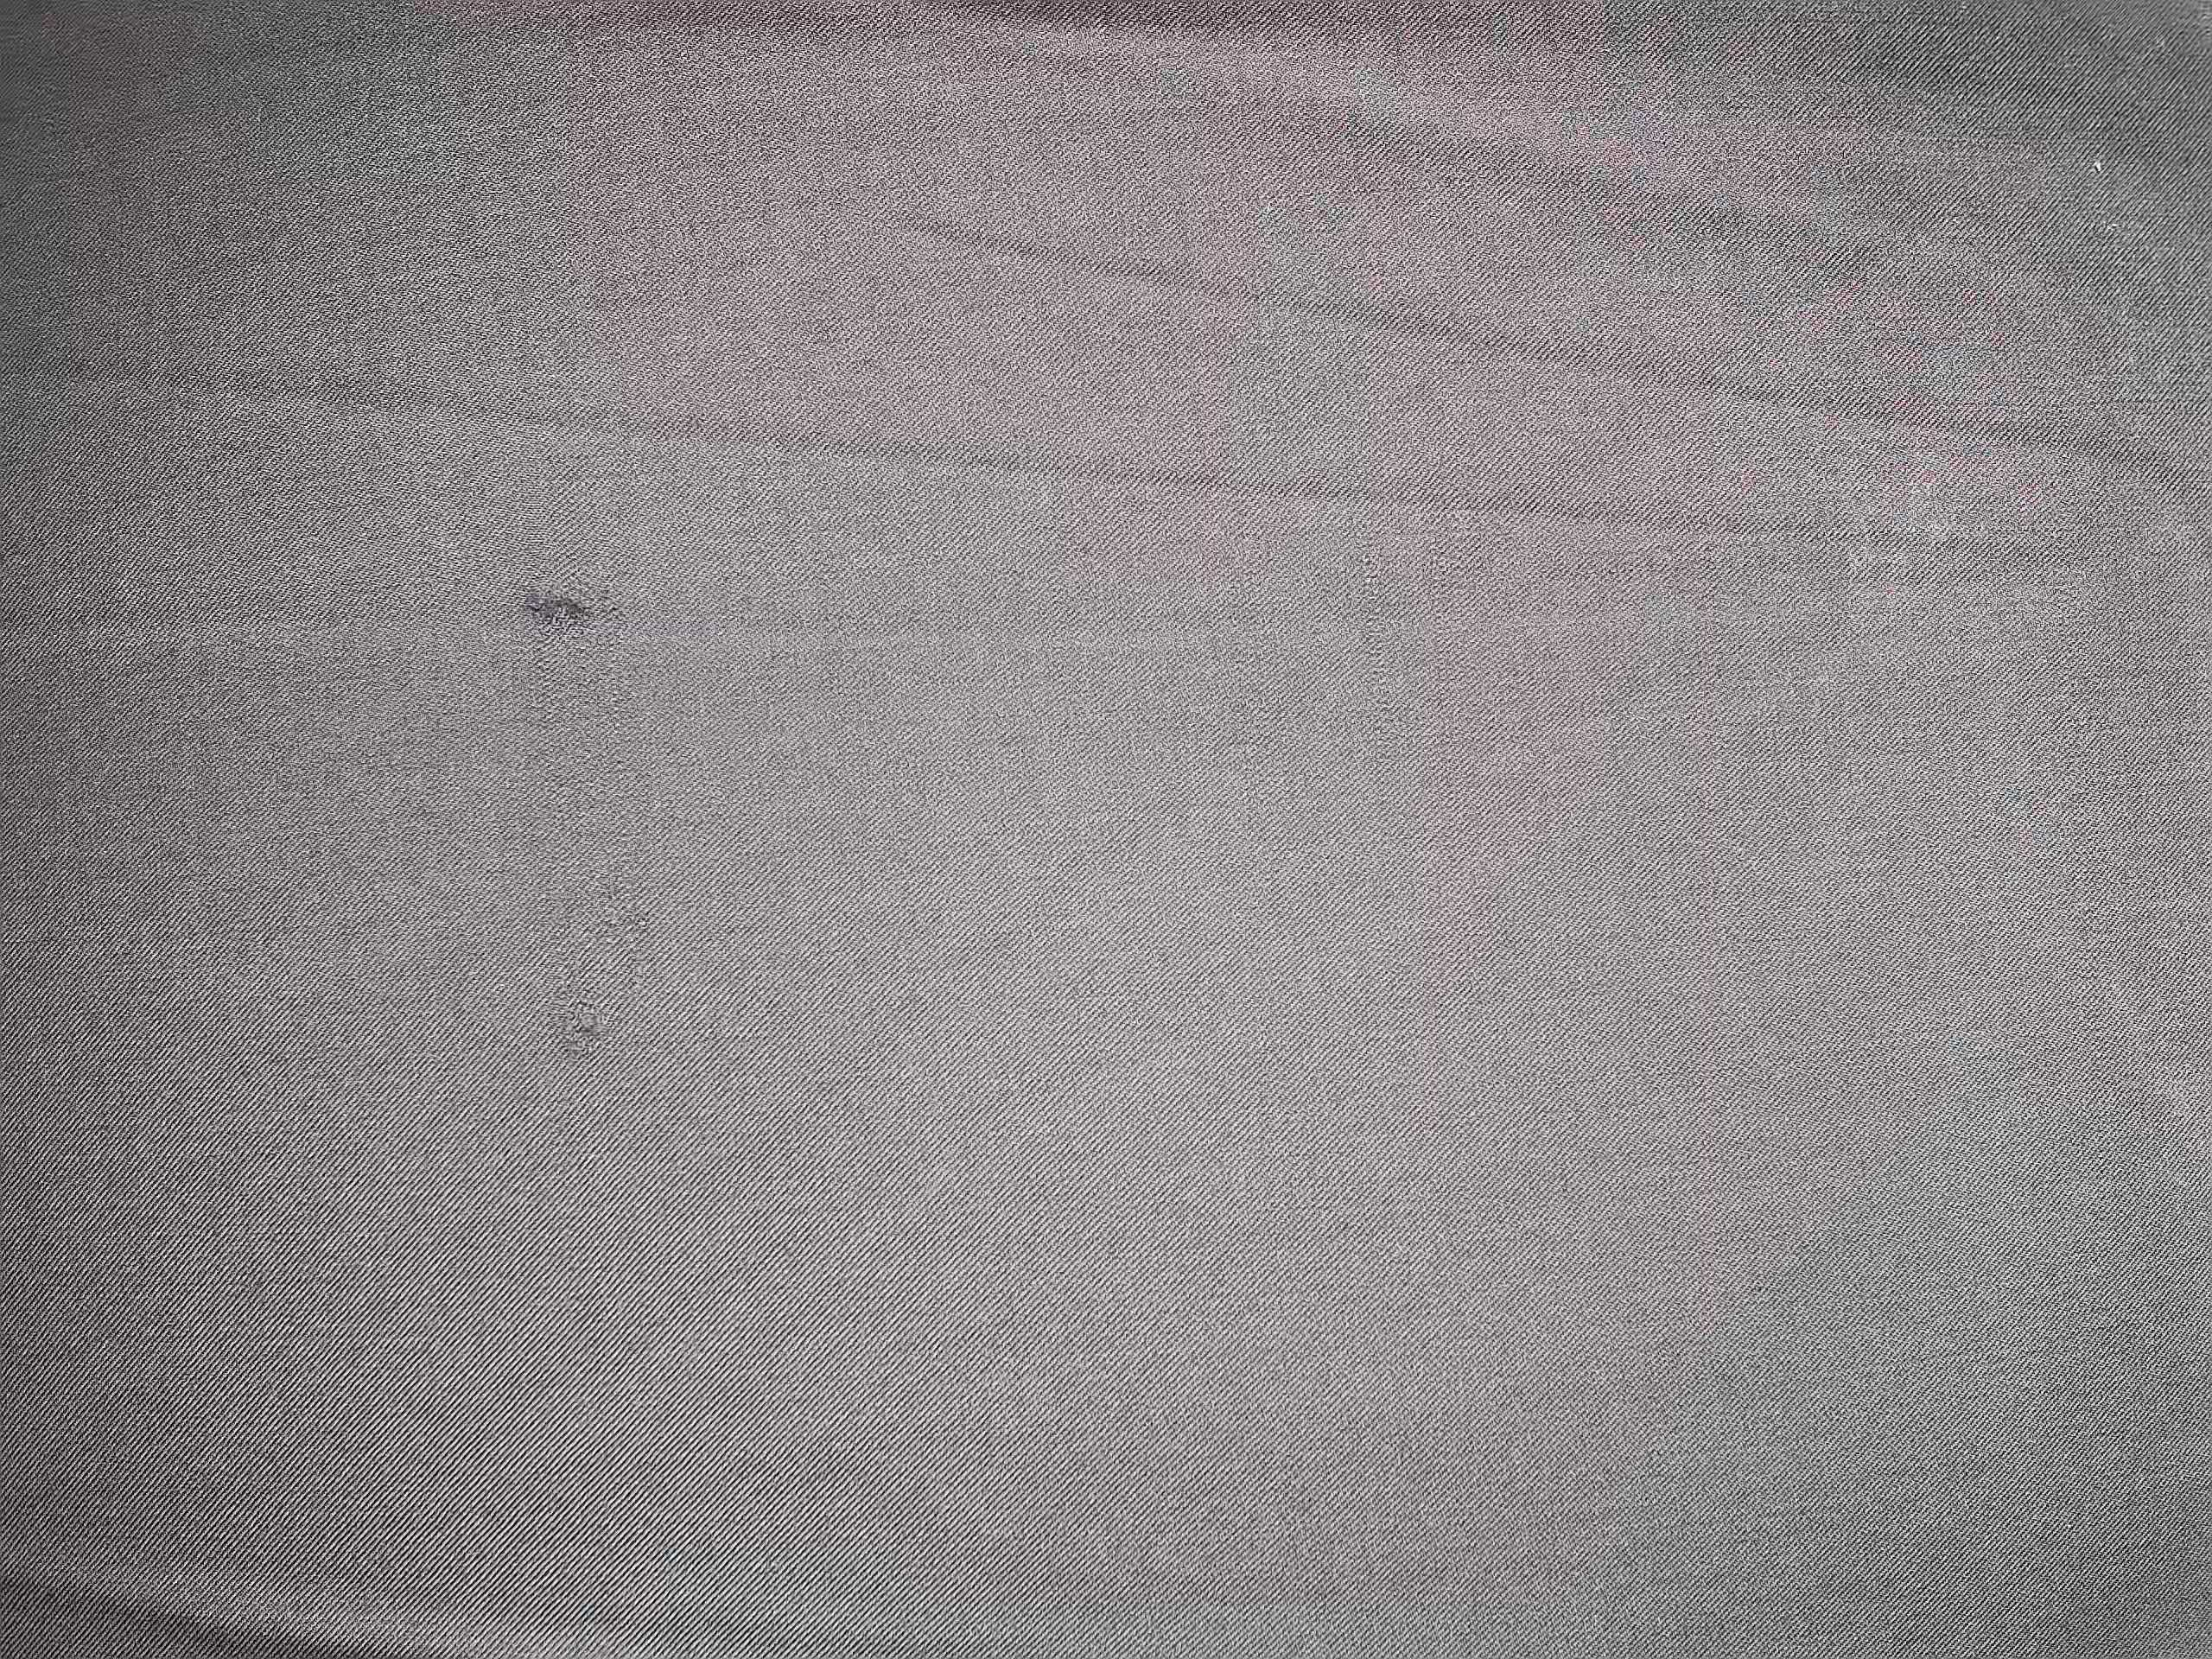brushed-hole: (500, 551, 632, 728), (531, 885, 648, 1070)
